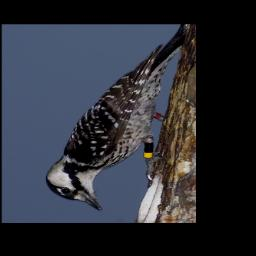Woodpecker: (44, 25, 188, 213)
